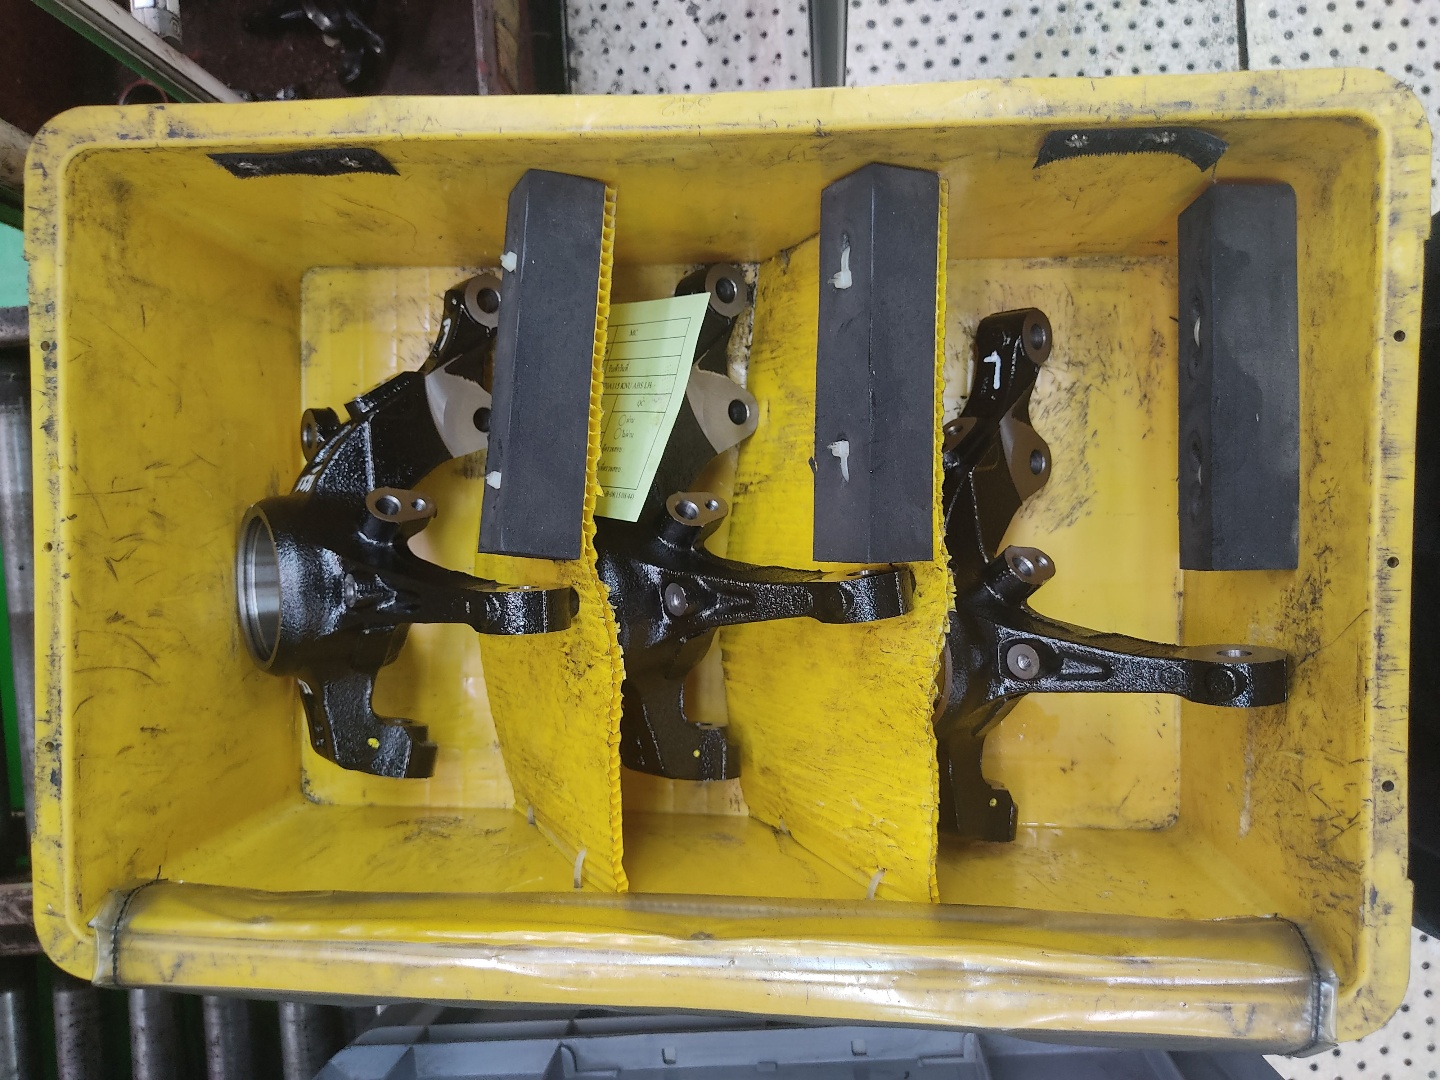abs-lh: (926, 288, 1303, 863), (225, 259, 596, 793), (594, 255, 920, 785)
